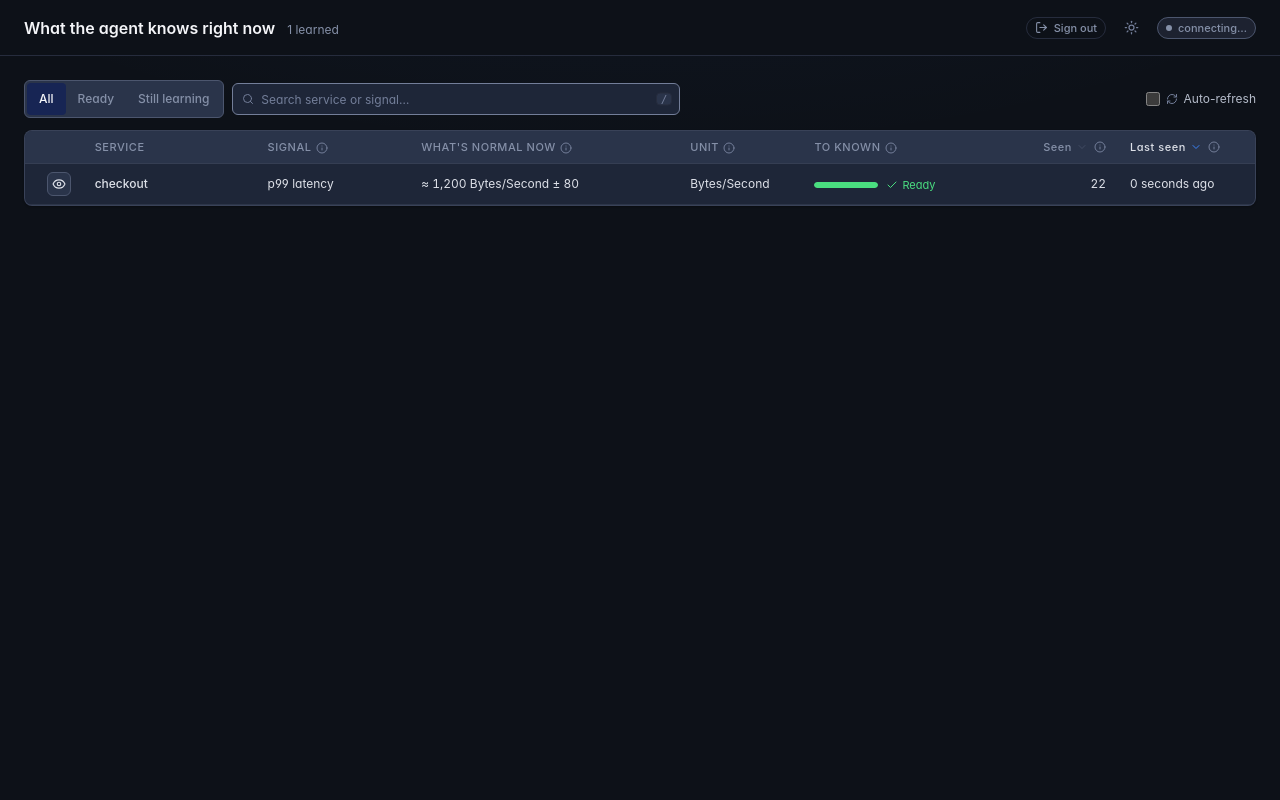
LearnedSignalsView — Source label is driven off row.source, not the type › renders 'CloudWatch' as the Source and shows the row's real unit for a cloudwatch_metrics row
Click the button titled "View details". click: [59, 184]
box: [47,172,71,196]
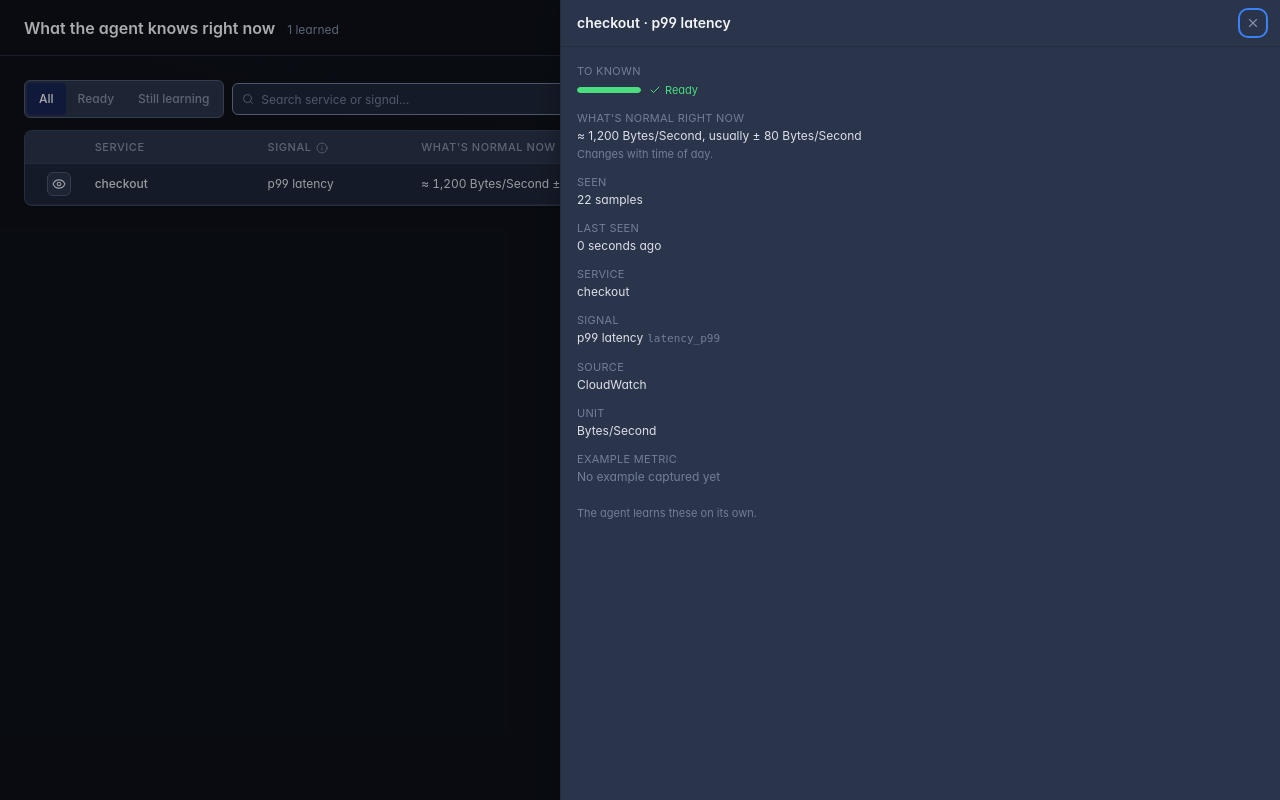
Check: the text "CloudWatch" is shown, box [577,377,647,392]
Check: the text "Bytes/Second" is shown, box [577,423,656,438]
